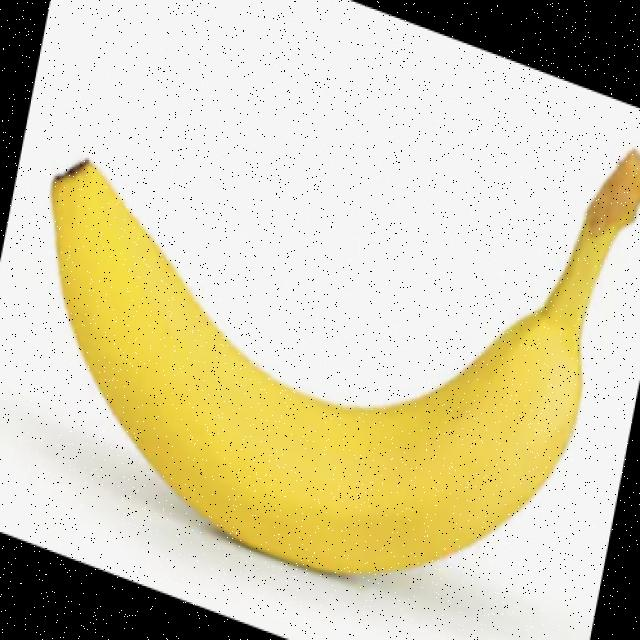god quality banana: (52, 151, 639, 574)
